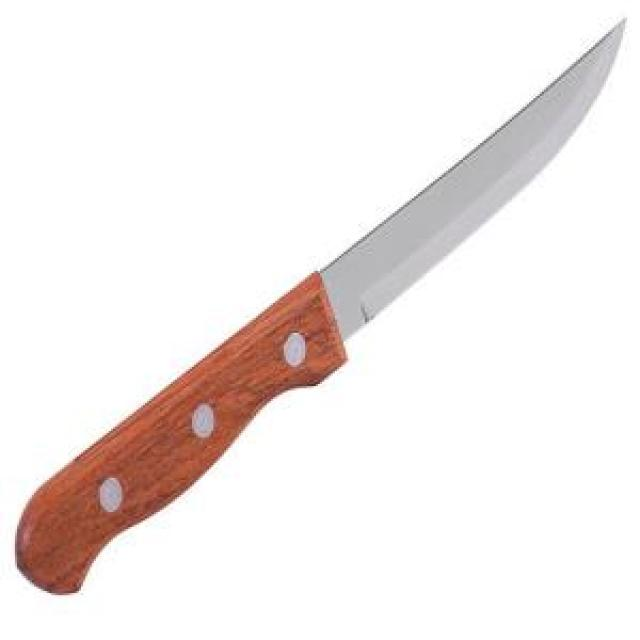knife: (15, 15, 626, 594)
